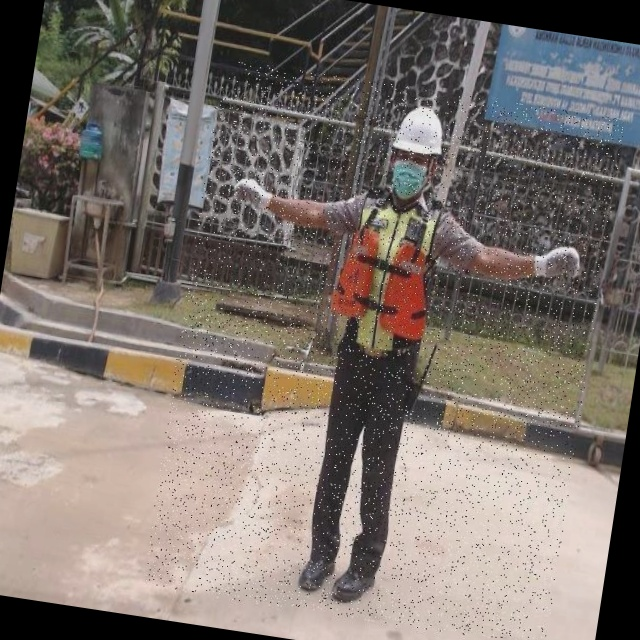boots: (225, 549, 268, 595), (270, 549, 305, 593)
gloves: (59, 188, 118, 264), (380, 176, 427, 228)
helmet: (223, 95, 277, 140)
vest: (210, 187, 313, 329)
